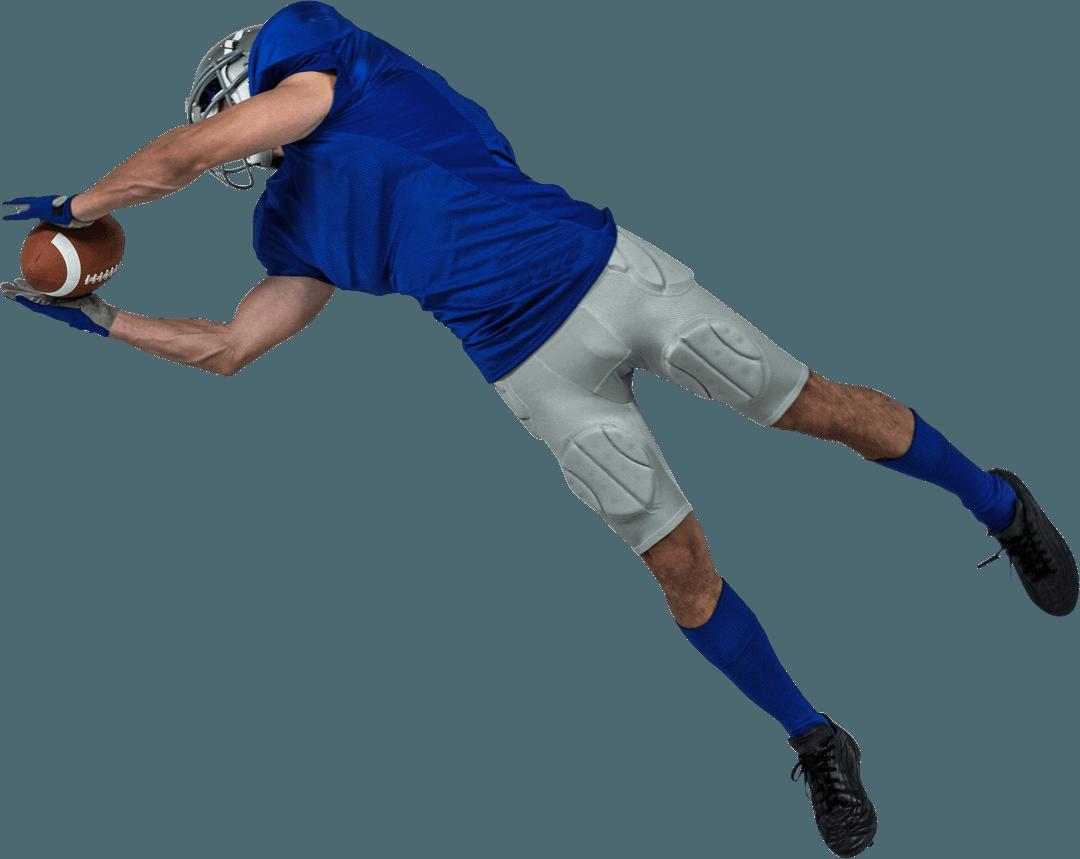ballon_rugby: (23, 207, 129, 298)
